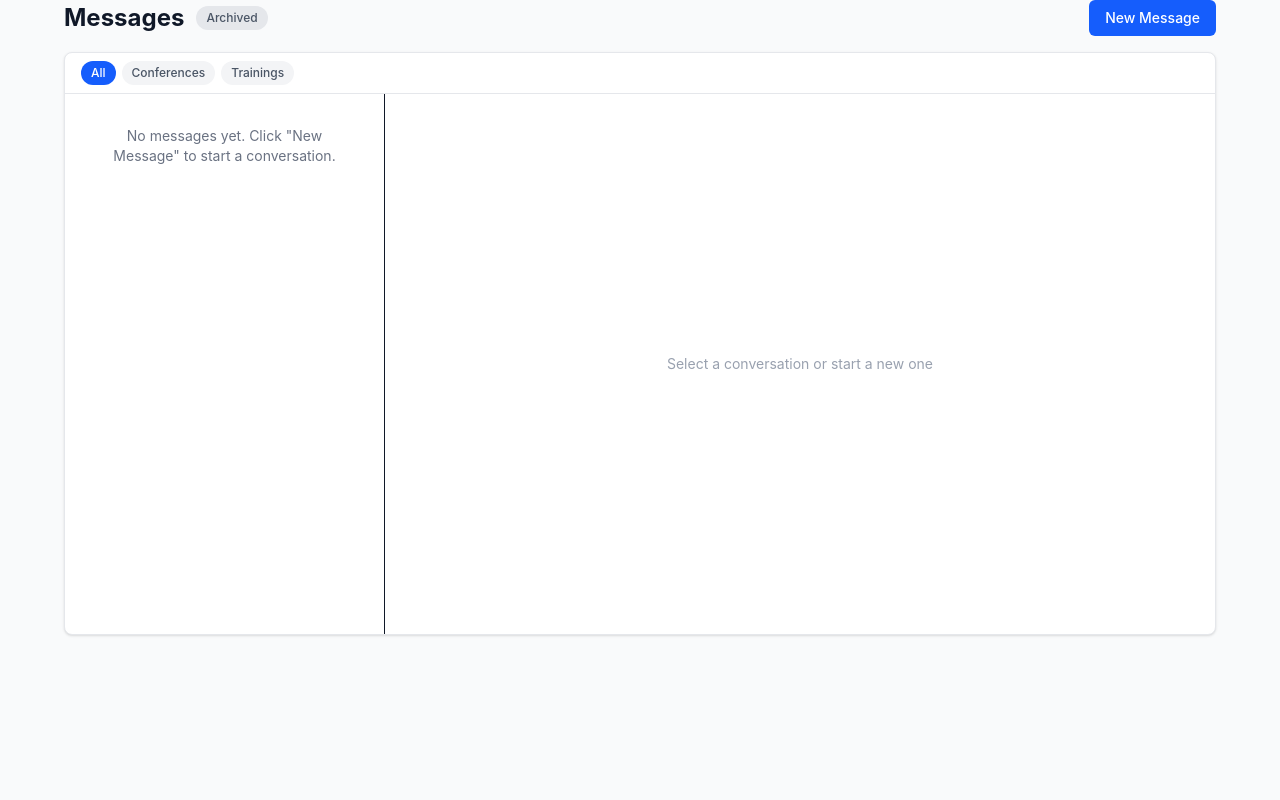
Scenario: MessagesPage › compose modal › opens the compose modal when New Message is clicked
Click the button "New Message". click: (1153, 18)
box: x1=1089 y1=0 x2=1216 y2=36
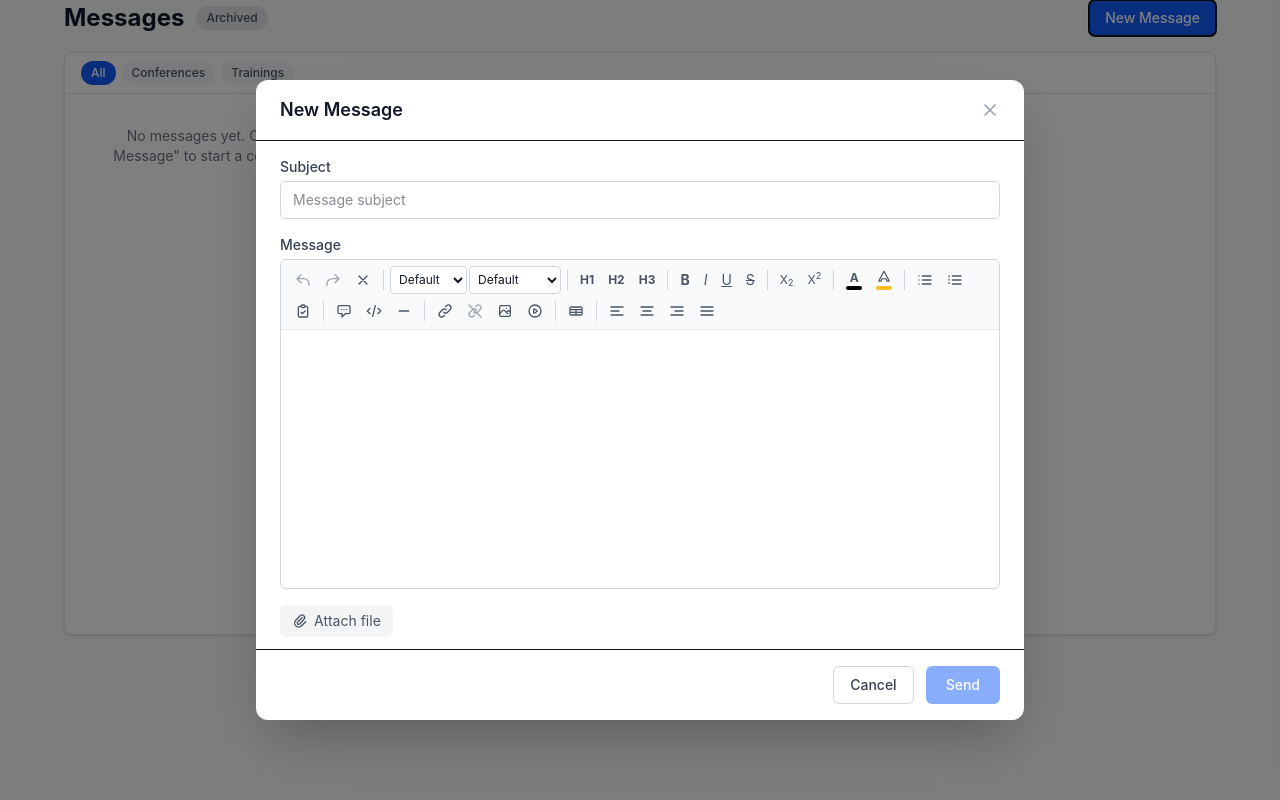
Expected: the heading "New Message" is shown, x1=280 y1=96 x2=403 y2=124
